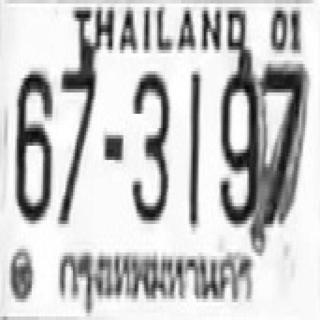N01: (186, 69, 199, 226)
N03: (129, 68, 168, 220)
N06: (13, 68, 50, 220)
N07: (260, 60, 305, 224), (57, 48, 96, 222)
N09: (218, 62, 257, 222)
P04: (55, 240, 258, 314)
